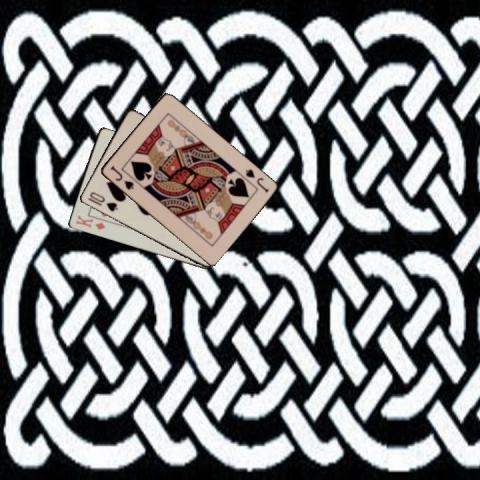10s: (86, 188, 118, 213)
Js: (242, 166, 270, 195), (106, 163, 134, 191)
Kd: (73, 212, 106, 231)
